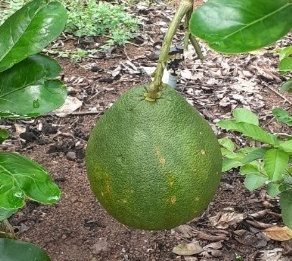Buoi: (84, 81, 226, 231)
